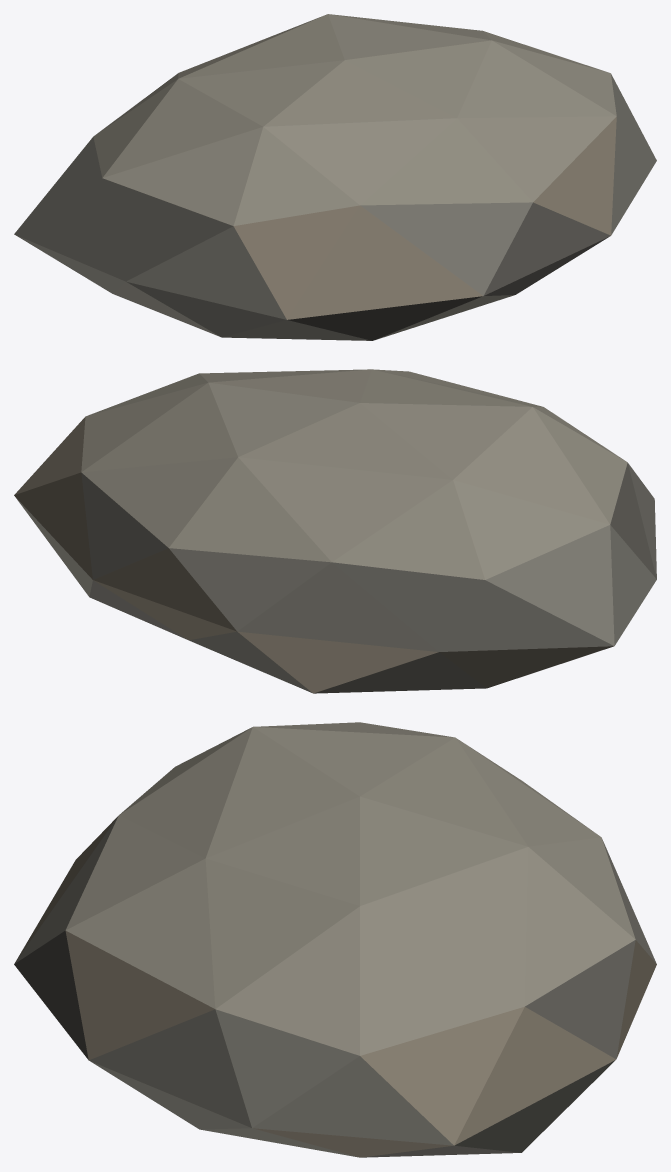
File: GroundDetail_SmallStone_A.fbx
3 renders of one model, top to bottom at view 1: azimuth 30°, elevation 25°; view 2: azimuth 150°, elevation 25°; view 3: azimuth 270°, elevation 25°, orthographic. The views are drawn at different scales.
Visible parts, largest first — view 1: GroundDetail_SmallStone_A; view 2: GroundDetail_SmallStone_A; view 3: GroundDetail_SmallStone_A.
Boxes of the visible parts, <box> form: GroundDetail_SmallStone_A: <box>14,14,656,340</box>; GroundDetail_SmallStone_A: <box>14,369,656,693</box>; GroundDetail_SmallStone_A: <box>14,722,656,1157</box>.
Bounding box in the file's own units: 0.2684 × 0.0827 × 0.2042.
Materials: 1 (1 with a texture image).
